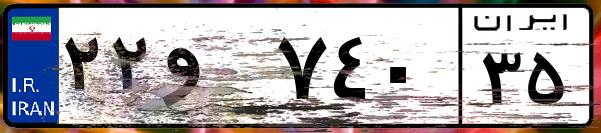0: (385, 28, 445, 110)
2: (57, 26, 110, 100), (110, 28, 158, 98)
3: (475, 38, 525, 113)
4: (330, 28, 385, 110)
5: (525, 38, 570, 115)
7: (270, 28, 330, 110)
و: (158, 20, 270, 120)
